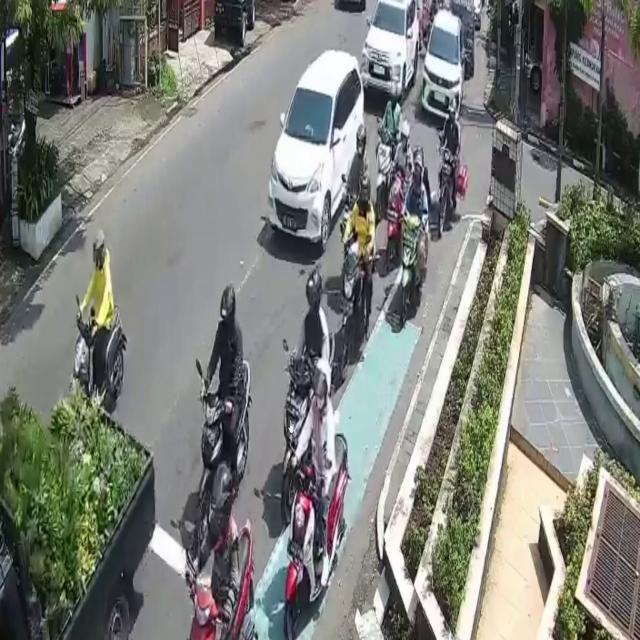bus: (284, 431, 348, 640), (187, 516, 258, 640), (281, 332, 335, 488), (202, 356, 252, 504), (74, 301, 123, 412), (342, 253, 374, 382), (402, 210, 418, 323), (438, 144, 458, 234)
motorcycle: (0, 401, 155, 640), (267, 50, 365, 253), (358, 0, 420, 107), (421, 12, 466, 119)
